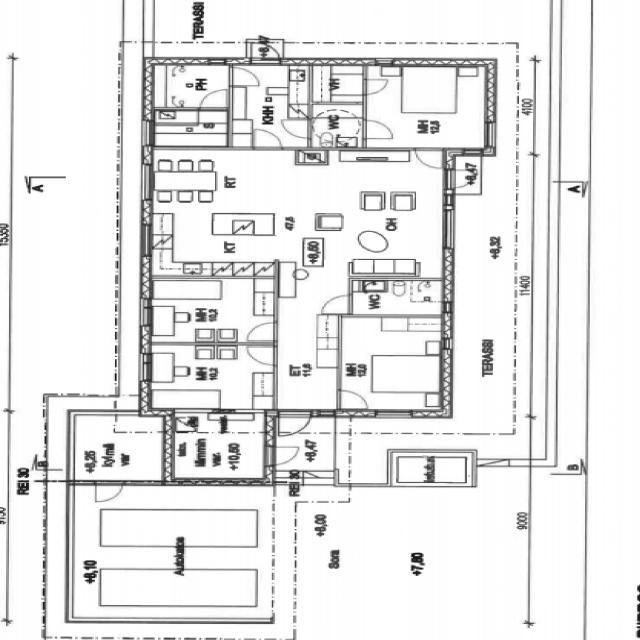door: (278, 410, 312, 439), (250, 38, 280, 65), (442, 169, 482, 189), (266, 447, 303, 466), (281, 120, 312, 139), (254, 129, 282, 150), (247, 322, 277, 341), (338, 390, 369, 408), (322, 295, 353, 313), (96, 480, 121, 502), (200, 90, 227, 110), (229, 67, 258, 85), (248, 347, 277, 365), (415, 148, 441, 167), (363, 121, 392, 138), (363, 79, 388, 94)
